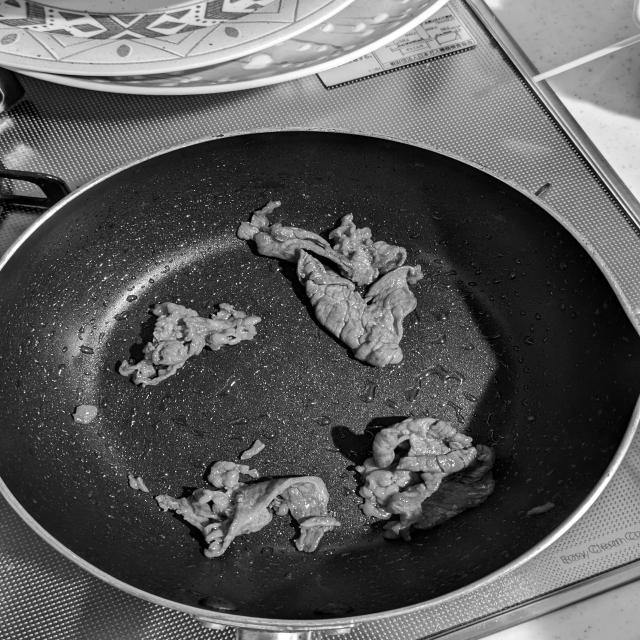OK cooked beef,: (229, 194, 426, 370), (348, 411, 517, 554), (147, 446, 341, 561), (112, 298, 280, 393)
